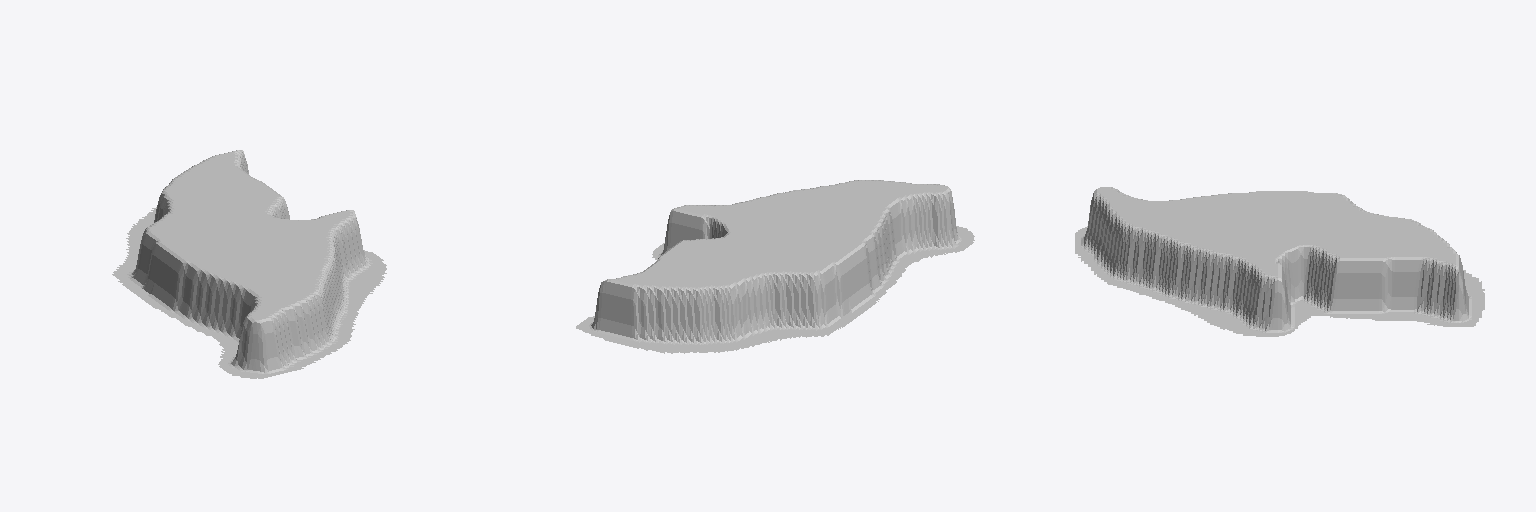
File: mountain3.obj
3 renders of one model, left to right at view 1: azimuth 30°, elevation 25°; view 2: azimuth 150°, elevation 25°; view 3: azimuth 270°, elevation 25°, orthographic.
Parts seen in each view (by area): view 1: Plane.003; view 2: Plane.003; view 3: Plane.003.
Part boxes in pixels (x1,y1,x2,y2): Plane.003: (112,150,386,378); Plane.003: (576,180,974,353); Plane.003: (1075,187,1484,336).
Bounding box in the file's own units: 187 × 37.16 × 286.